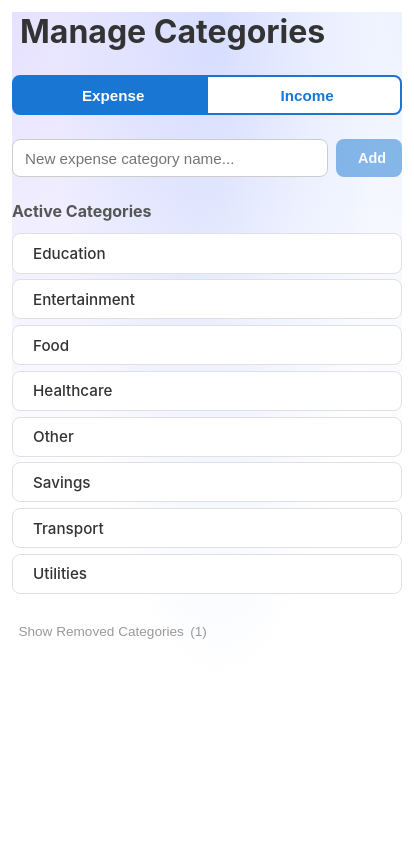
CategoriesView › toggles deleted section
Step 1. Click the button with class "toggle-deleted" → (109, 632), box 12,618 -> 207,646
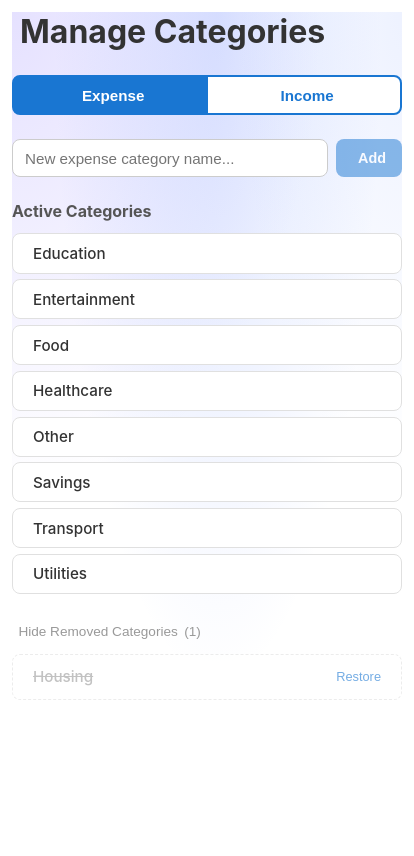
Expected: the element with class "deleted-list" is shown, 12,654 -> 402,700
